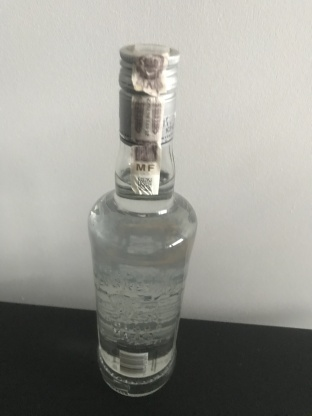nakretka: (116, 39, 182, 147)
